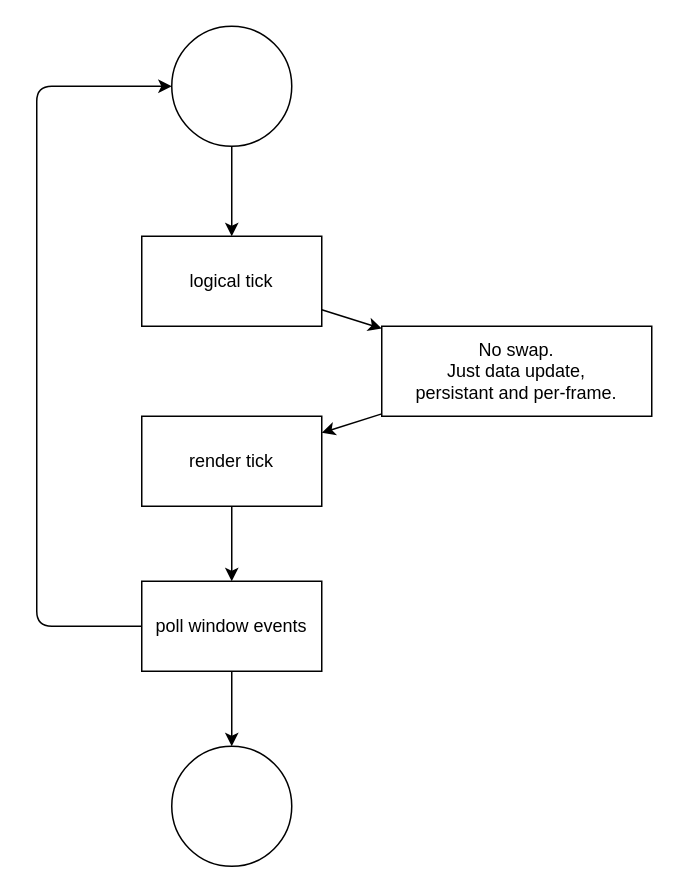
Image size: 678x893. Some labels were removed from this diagram. Each missing label, with the centre of its shape:
"End" goes at [231,805].
"Run" goes at [231,85].
